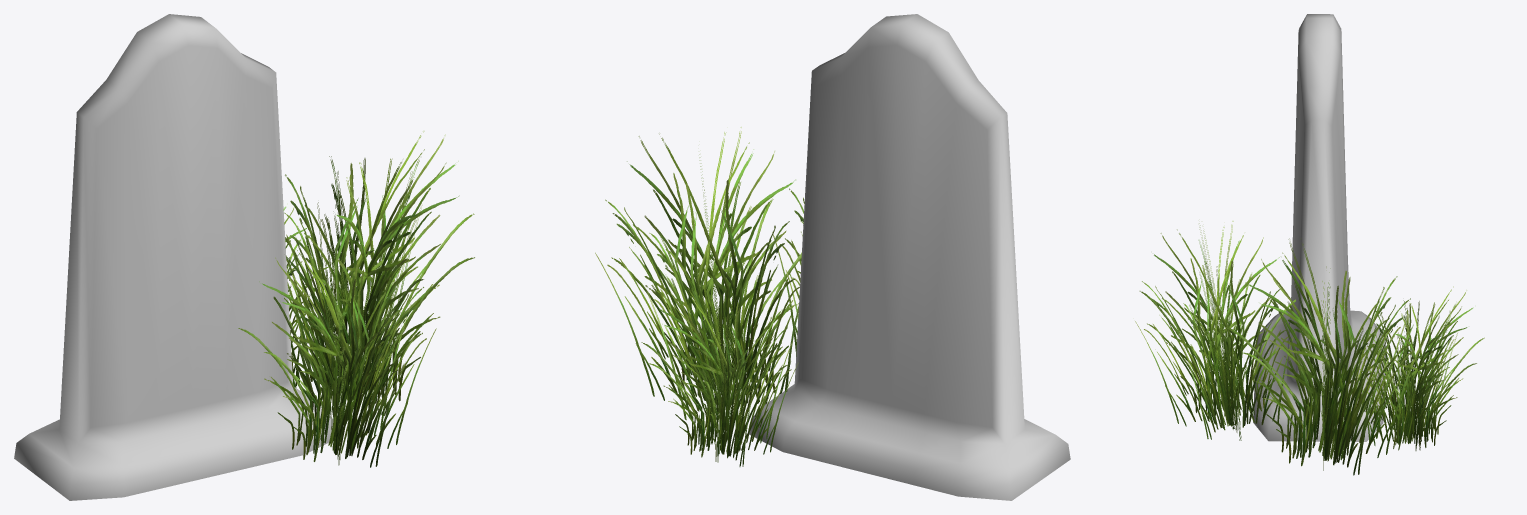
File: TombStone_5.fbx
The picture shows the model from 3 angles, left to right: view 1: azimuth 30°, elevation 25°; view 2: azimuth 150°, elevation 25°; view 3: azimuth 270°, elevation 25°; orthographic projection. The views are drawn at different scales.
Parts seen in each view (by area): view 1: prim2, prim1; view 2: prim2, prim1; view 3: prim1, prim2.
Boxes of the visible parts, bbox=[...] form: prim2: bbox=[14, 14, 333, 500]; prim1: bbox=[238, 131, 474, 467]; prim2: bbox=[749, 14, 1070, 500]; prim1: bbox=[595, 127, 804, 466]; prim1: bbox=[1135, 221, 1484, 475]; prim2: bbox=[1253, 14, 1386, 441].
Bounding box in the file's own units: 182 × 160 × 160.
